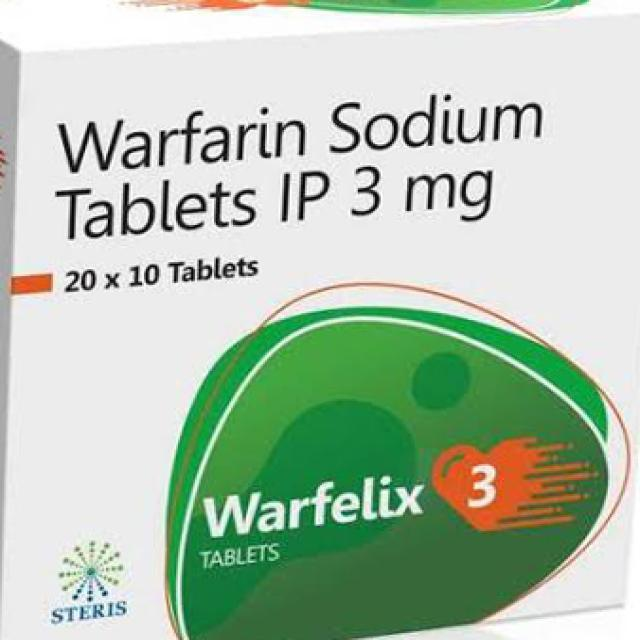drug-name: (200, 472, 428, 540)
